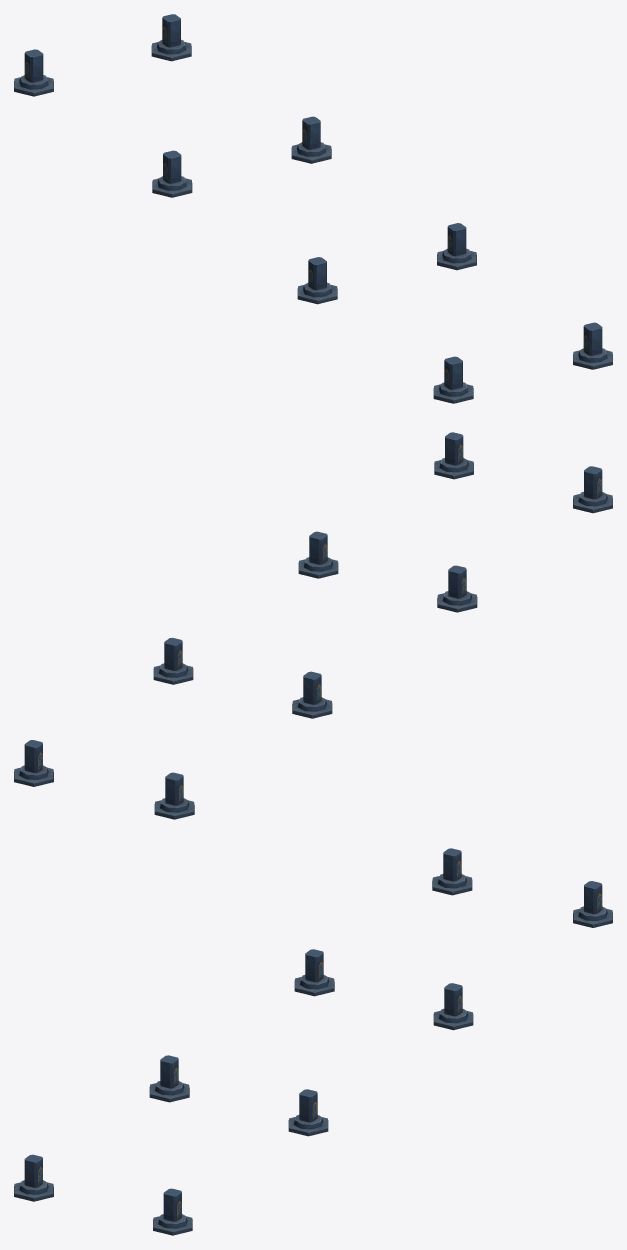
The model's file is wujian44.fbx.
3 renders of one model, top to bottom at view 1: azimuth 30°, elevation 25°; view 2: azimuth 150°, elevation 25°; view 3: azimuth 330°, elevation 25°, orthographic.
Visible parts, largest first — view 1: wujian44; view 2: wujian44; view 3: wujian44.
Boxes of the visible parts, x1,y1,x2,y2 form: wujian44: (14, 14, 612, 403); wujian44: (14, 432, 612, 819); wujian44: (14, 848, 612, 1235).
Bounding box in the file's own units: 1213 × 217 × 5169.
Materials: 1 (1 with a texture image).
